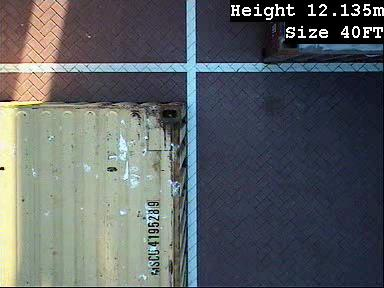groundmarker_2: (75, 91, 145, 136), (110, 225, 146, 288)
